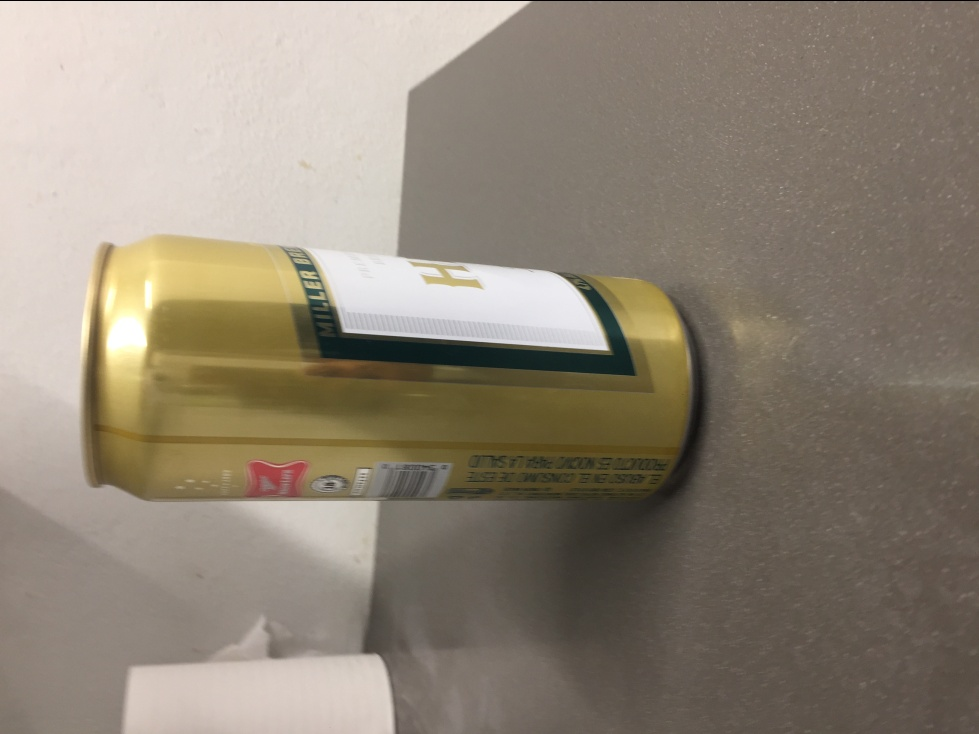miller: (73, 231, 707, 515)
